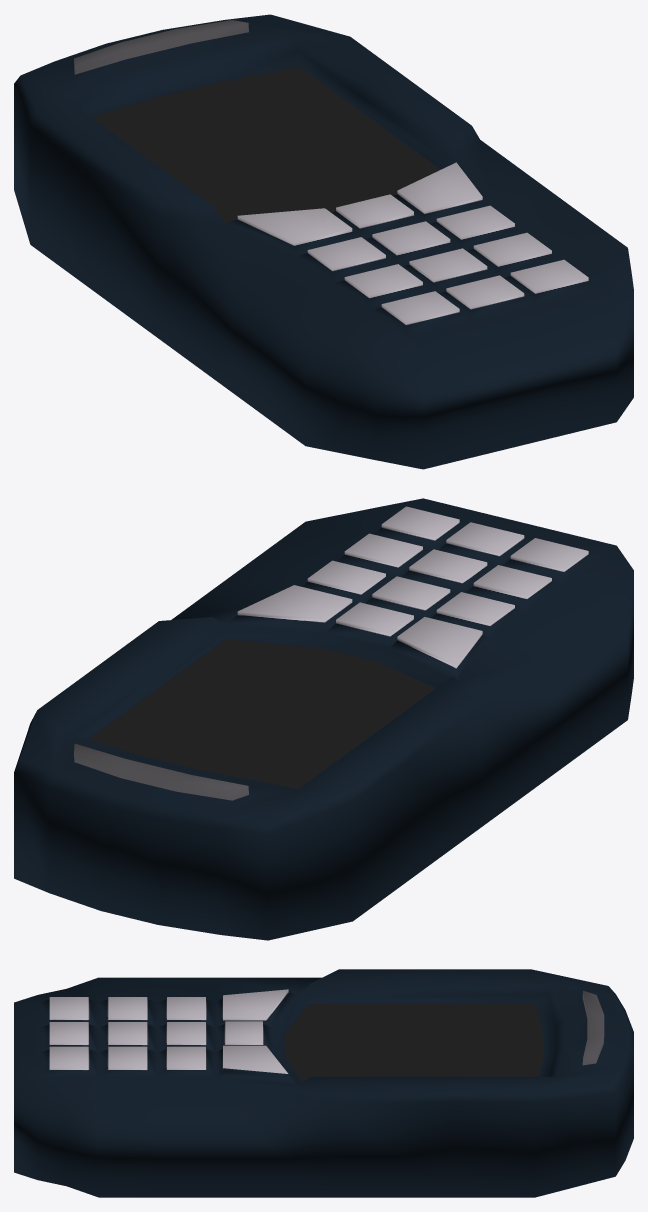
Rendered from nokia.fbx.
3 renders of one model, top to bottom at view 1: azimuth 30°, elevation 25°; view 2: azimuth 150°, elevation 25°; view 3: azimuth 270°, elevation 25°, orthographic. The views are drawn at different scales.
Parts seen in each view (by area): view 1: Cube.001; view 2: Cube.001; view 3: Cube.001.
Part boxes in pixels (x1,y1,x2,y2): Cube.001: (14,14,633,469); Cube.001: (14,498,633,940); Cube.001: (14,969,633,1197).
Bounding box in the file's own units: 25.8 × 10.66 × 54.12.
Materials: 1 (1 with a texture image).
